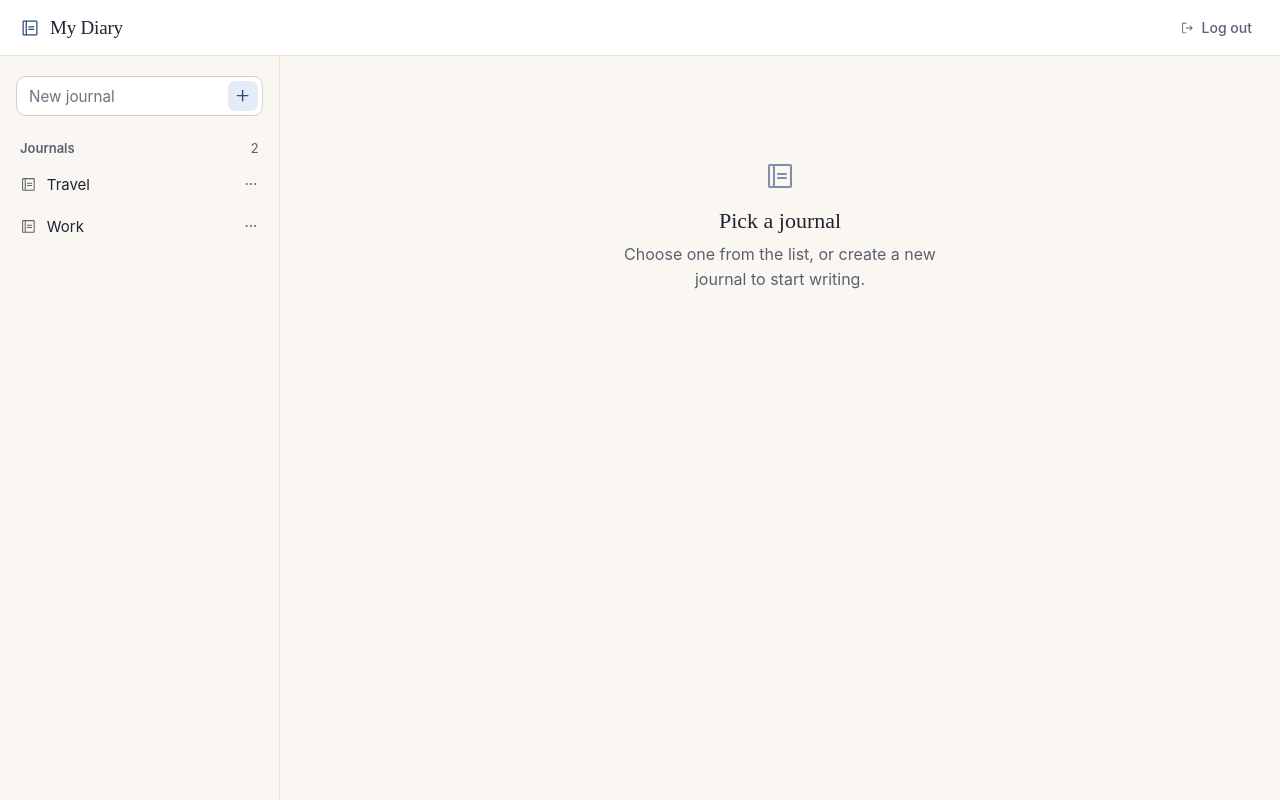
Test case: Landing › selecting a journal in the panel opens its entries in the pane
What coordinates should you click on to do the following:
click the button "Work"
I would click on:
 (122, 226)
Its box is [8,206,237,246].
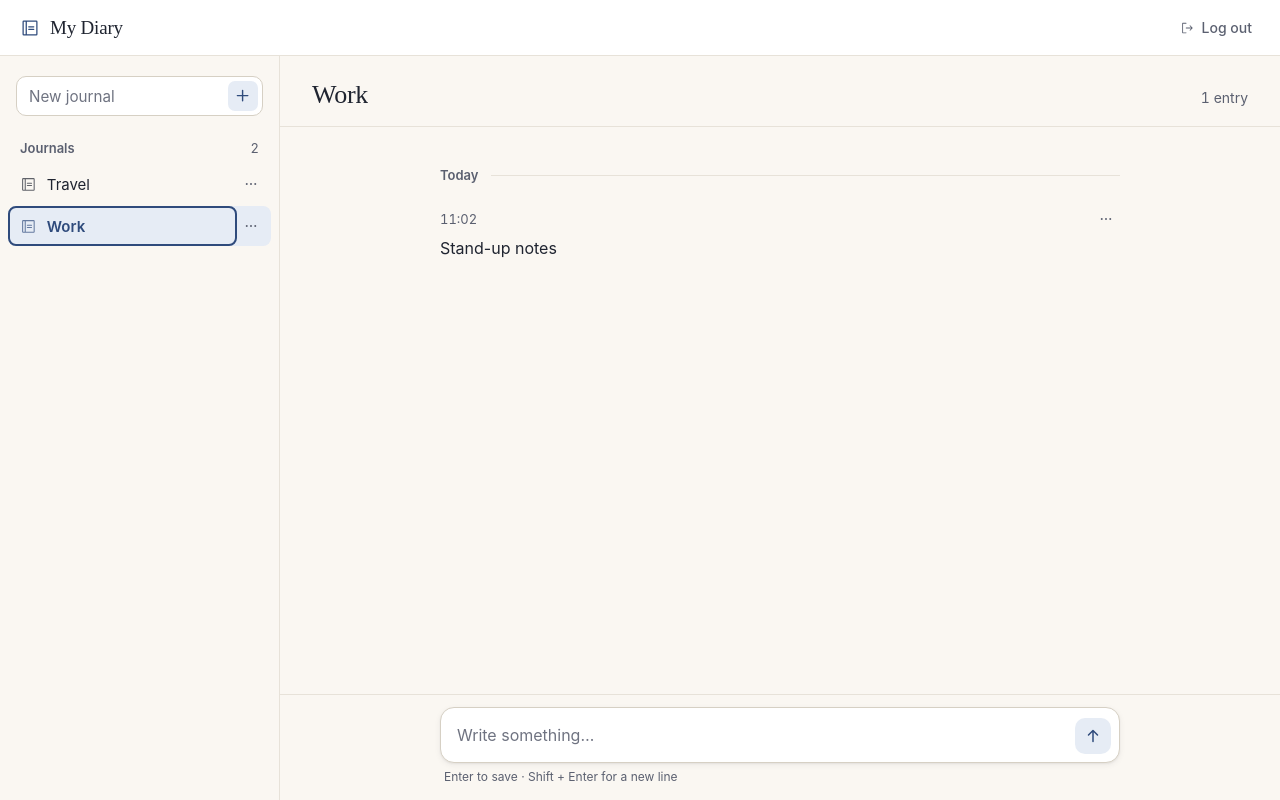
Expected: the text "Packed my bags" is not shown
Now the heading "Work" is shown, box [312,80,368,110]
Now the text "Stand-up notes" is shown, box [440,238,557,258]
What coordinates should you click on to do the following:
click the button "Travel"
I would click on:
 (122, 184)
Its box is [8,164,237,204].
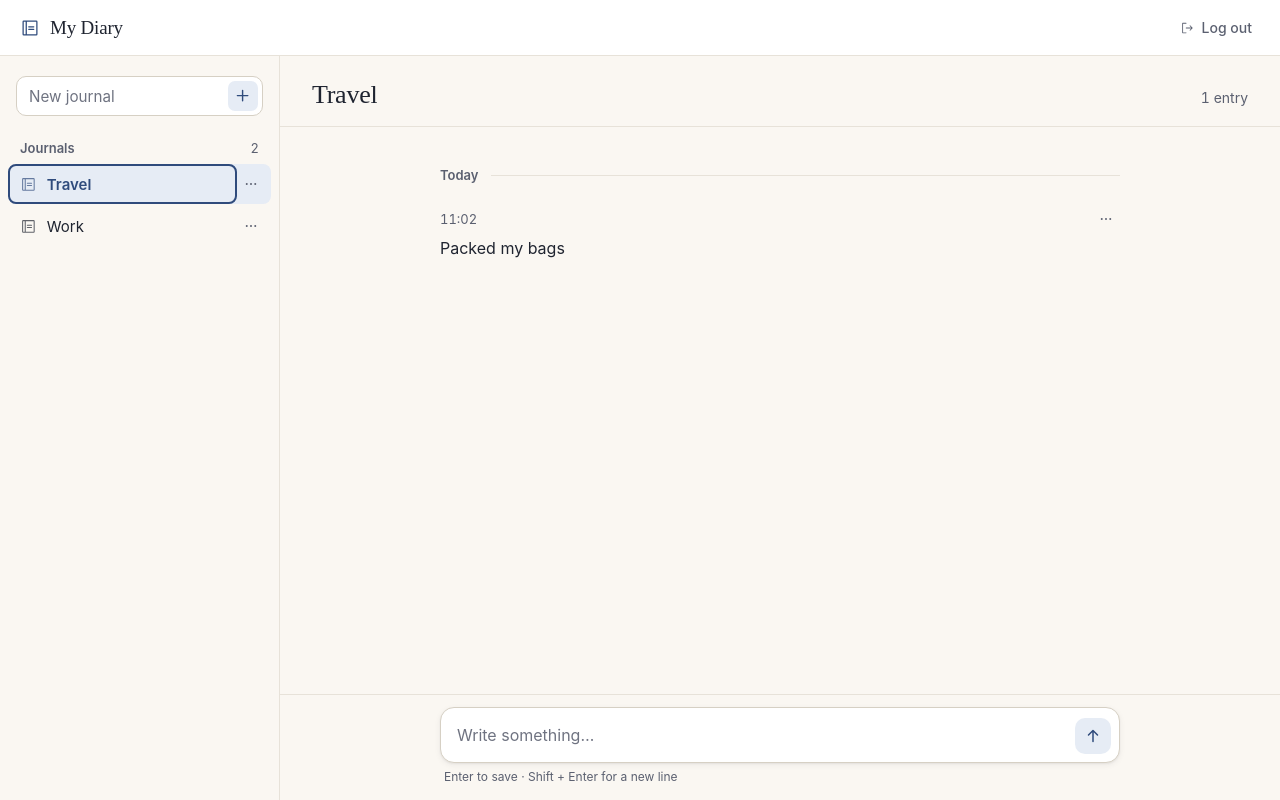
Now the heading "Travel" is shown, box [312,80,377,110]
Now the text "Packed my bags" is shown, box [440,238,565,258]
